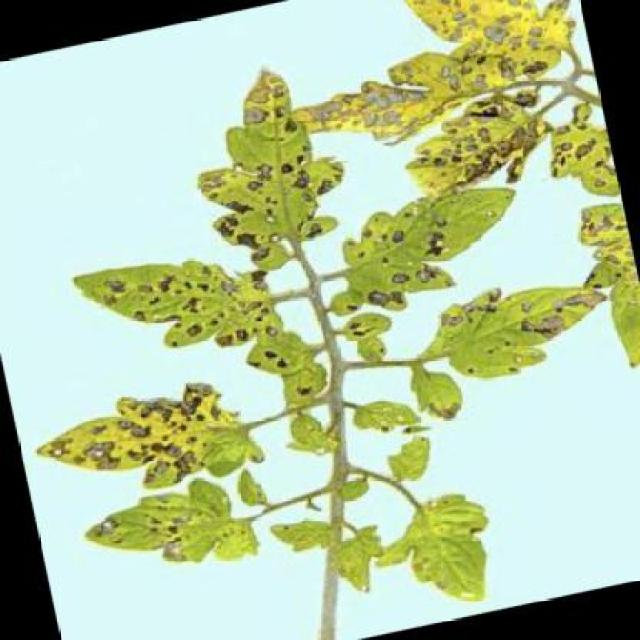Septoria leaf spot: (366, 232, 639, 433), (161, 32, 364, 292), (306, 142, 548, 338), (14, 364, 278, 519), (54, 232, 298, 390), (35, 464, 276, 611), (385, 63, 583, 203), (358, 462, 522, 620)
